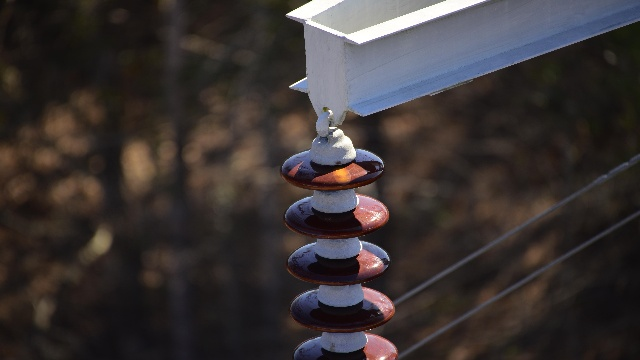insulator_unspecified: (276, 147, 397, 359)
pollution_flashover_local: (331, 162, 357, 184)
